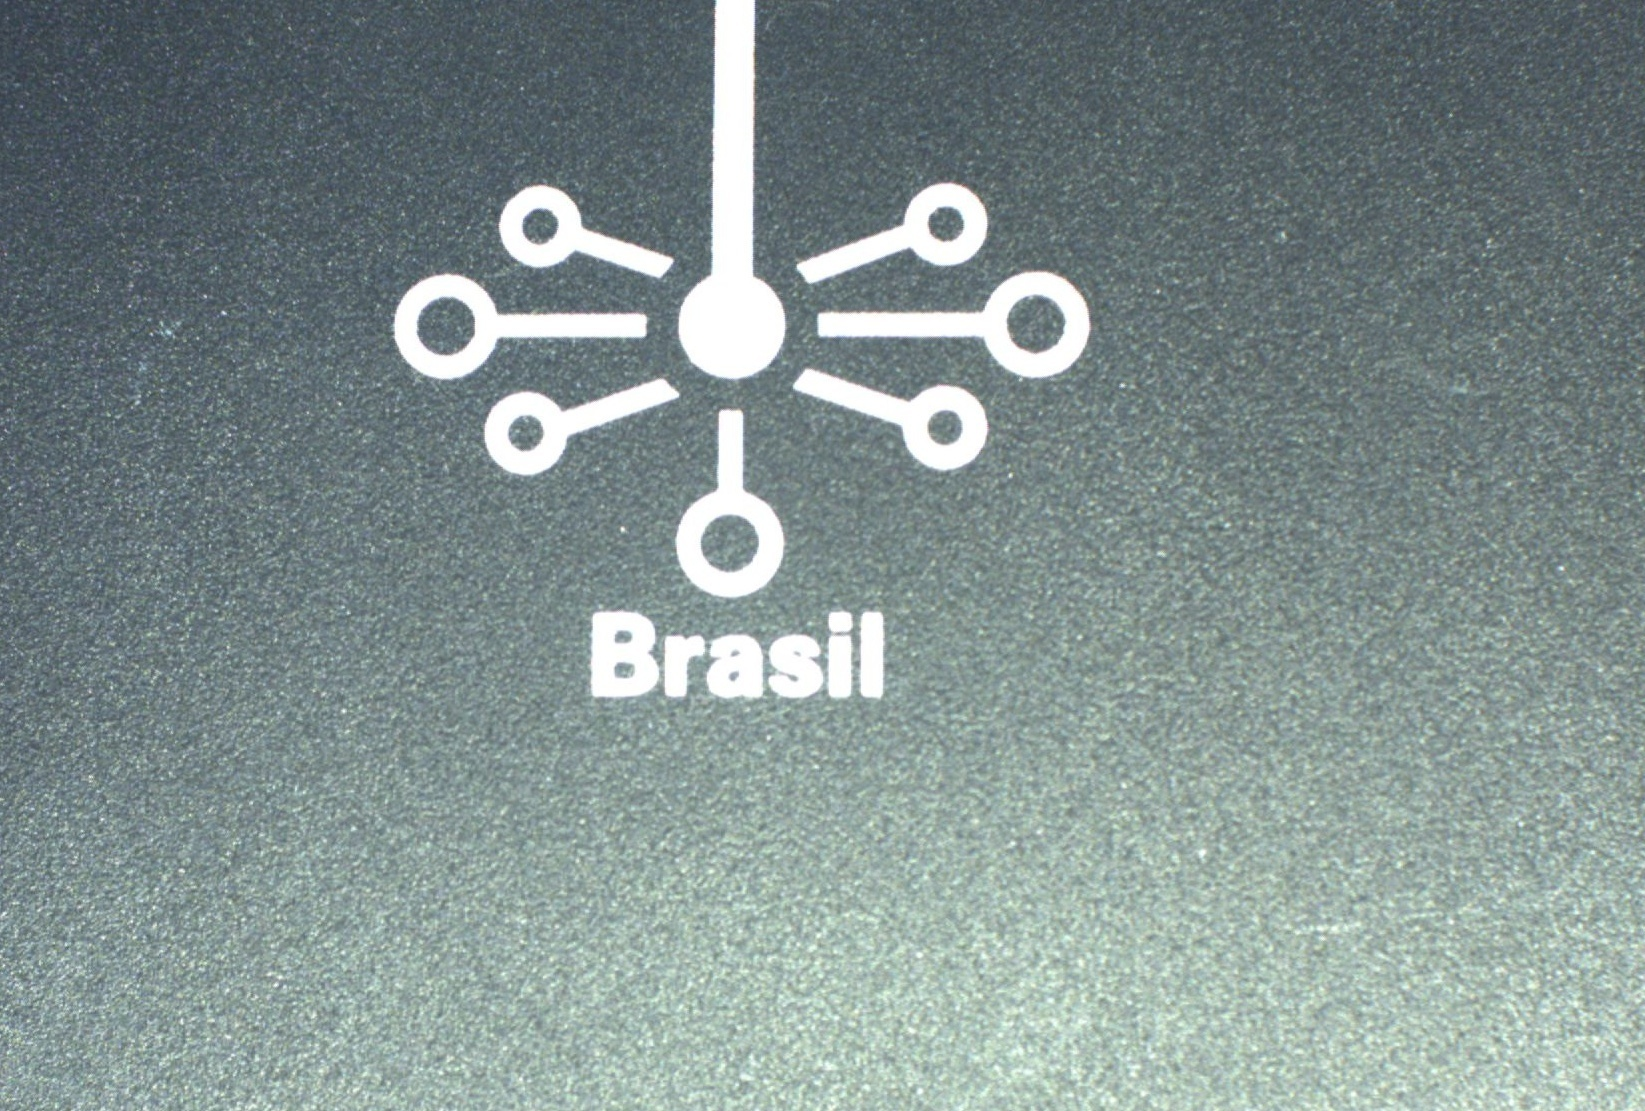BO_Brsail: (333, 6, 1119, 727)
